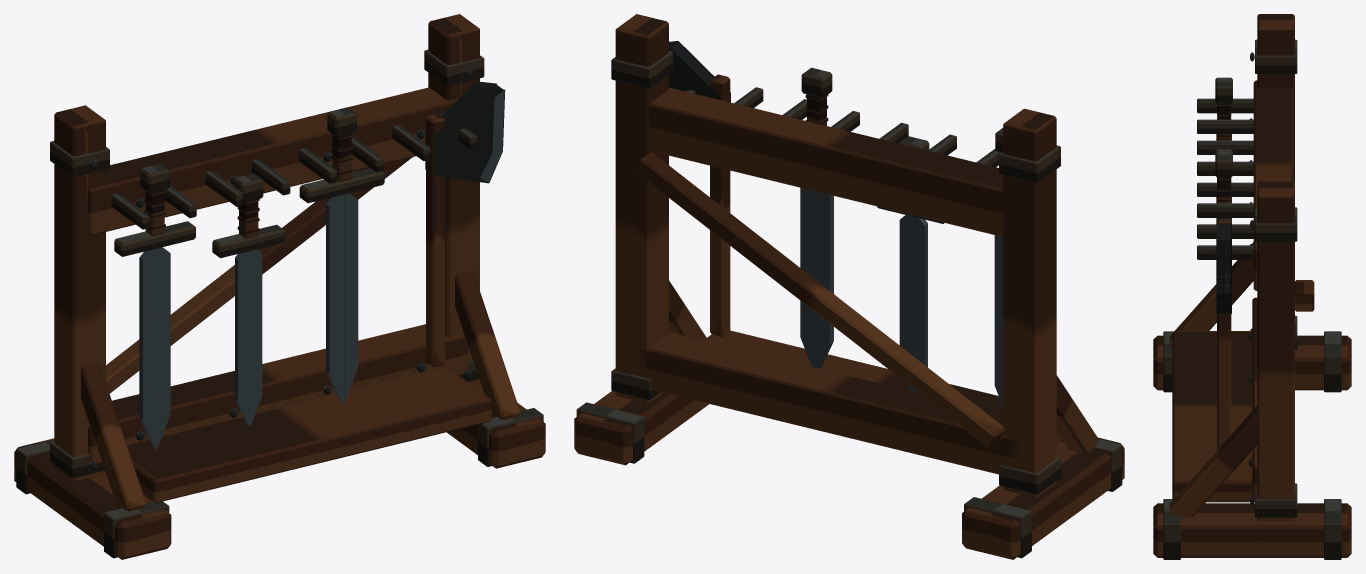
The model's file is WeaponRack_Floor_Loaded.fbx.
3 views of the same model, side by side, from view 1: azimuth 30°, elevation 25°; view 2: azimuth 150°, elevation 25°; view 3: azimuth 270°, elevation 25° (orthographic). The views are drawn at different scales.
Visible parts, largest first — view 1: WeaponRack_Floor_Loaded; view 2: WeaponRack_Floor_Loaded; view 3: WeaponRack_Floor_Loaded.
Part boxes in pixels (left/top/right/bottom): WeaponRack_Floor_Loaded: left=14, top=14, right=545, bottom=559; WeaponRack_Floor_Loaded: left=574, top=14, right=1124, bottom=559; WeaponRack_Floor_Loaded: left=1153, top=14, right=1351, bottom=559.
Size of the model in its own units: 1.93 by 1.68 by 0.84.
4 materials, 4 textured.
